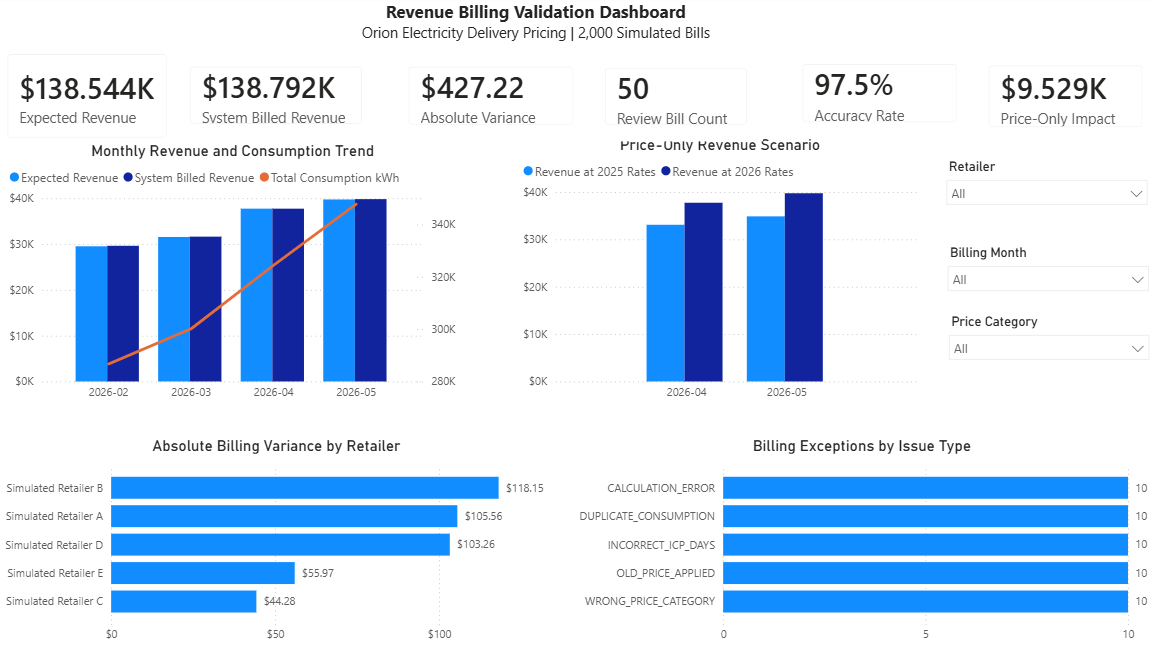

This screenshot's page, from the dashboard's own definition file:
{"tool":"powerbi","page":{"name":"Revenue Billing Validation Dashboard","canvas":[1280,720],"ordinal":0},"visuals":[{"type":"cardVisual","fields":{"Data":["billing_reconciliation.Expected Revenue"]},"box":[0,48,209.9,126.2],"z":0},{"type":"cardVisual","fields":{"Data":["billing_reconciliation.System Billed Revenue"]},"box":[200.3,61.7,223.7,97.4],"z":1000},{"type":"cardVisual","fields":{"Data":["billing_exception_log.Total Absolute Variance"]},"box":[440.5,61.7,215.4,98.8],"z":2000},{"type":"cardVisual","fields":{"Data":["billing_exception_log.Billing Accuracy Rate"]},"box":[872.7,59,204.5,98.8],"z":3000},{"type":"lineClusteredColumnComboChart","title":"Monthly Revenue and Consumption Trend","fields":{"Y":["billing_reconciliation.Expected Revenue","billing_reconciliation.System Billed Revenue"],"Y2":["billing_reconciliation.Total Consumption kWh"],"Category":["billing_reconciliation.Billing Month Label"]},"box":[13.7,160.5,500.9,293.7],"z":4000},{"type":"clusteredColumnChart","title":"Price-Only Revenue Scenario","fields":{"Y":["pricing_impact_analysis.Revenue at 2025 Rates","pricing_impact_analysis.Revenue at 2026 Rates"],"Category":["pricing_impact_analysis.Billing Month Label"]},"box":[577.7,153.7,443.2,300.5],"z":5000},{"type":"clusteredBarChart","title":"Absolute Billing Variance by Retailer","fields":{"Category":["retailer_master.retailer_name"],"Y":["billing_exception_log.Total Absolute Variance"]},"box":[0,484.4,624.4,236],"z":6000},{"type":"textbox","box":[378.7,0,436.4,68.6],"z":7000},{"type":"clusteredBarChart","title":"Billing Exceptions by Issue Type","fields":{"Category":["billing_exception_log.detected_issue_type"],"Y":["Count(billing_exception_log.issue_id)"]},"box":[629.8,484.4,650.4,236],"z":8000},{"type":"cardVisual","fields":{"Data":["billing_exception_log.Review Bill Count"]},"box":[655.9,63.1,190.7,97.4],"z":9000},{"type":"cardVisual","fields":{"Data":["pricing_impact_analysis.Price Change Impact"]},"box":[1077.2,60.4,203.1,102.9],"z":10000},{"type":"slicer","title":"Retailer","fields":{"Values":["retailer_master.retailer_name"]},"box":[1037.4,174.3,241.5,79.6],"z":11000},{"type":"slicer","title":"Retailer","fields":{"Values":["DimMonth.Billing Month Label"]},"box":[1038.8,269,241.5,75.5],"z":12000},{"type":"slicer","fields":{"Values":["DimPriceCategory.Price Category"]},"box":[1040.1,344.4,240.1,72.7],"z":13000}]}

Visuals, with their boxes in screenshot pixels (x1, y1, x2, y2), scaled from the page's 1280x720 canvas onto the 1153x648 screenshot:
cardVisual - billing_reconciliation.Expected Revenue: Rect(0, 43, 189, 157)
cardVisual - billing_reconciliation.System Billed Revenue: Rect(180, 56, 382, 143)
cardVisual - billing_exception_log.Total Absolute Variance: Rect(397, 56, 591, 144)
cardVisual - billing_exception_log.Billing Accuracy Rate: Rect(786, 53, 970, 142)
"Monthly Revenue and Consumption Trend" lineClusteredColumnComboChart: Rect(12, 144, 464, 409)
"Price-Only Revenue Scenario" clusteredColumnChart: Rect(520, 138, 920, 409)
"Absolute Billing Variance by Retailer" clusteredBarChart: Rect(0, 436, 562, 647)
textbox: Rect(341, 0, 734, 62)
"Billing Exceptions by Issue Type" clusteredBarChart: Rect(567, 436, 1152, 647)
cardVisual - billing_exception_log.Review Bill Count: Rect(591, 57, 763, 144)
cardVisual - pricing_impact_analysis.Price Change Impact: Rect(970, 54, 1152, 147)
"Retailer" slicer: Rect(934, 157, 1152, 229)
"Retailer" slicer: Rect(936, 242, 1152, 310)
slicer - DimPriceCategory.Price Category: Rect(937, 310, 1152, 375)
